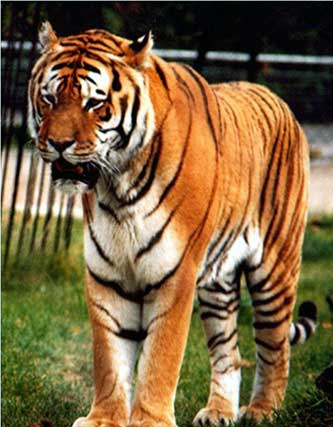Tigre: (30, 15, 307, 387)
